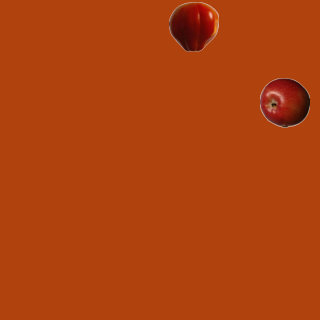Apple Braeburn: (259, 77, 309, 127)
Tomato 1: (168, 1, 218, 51)
